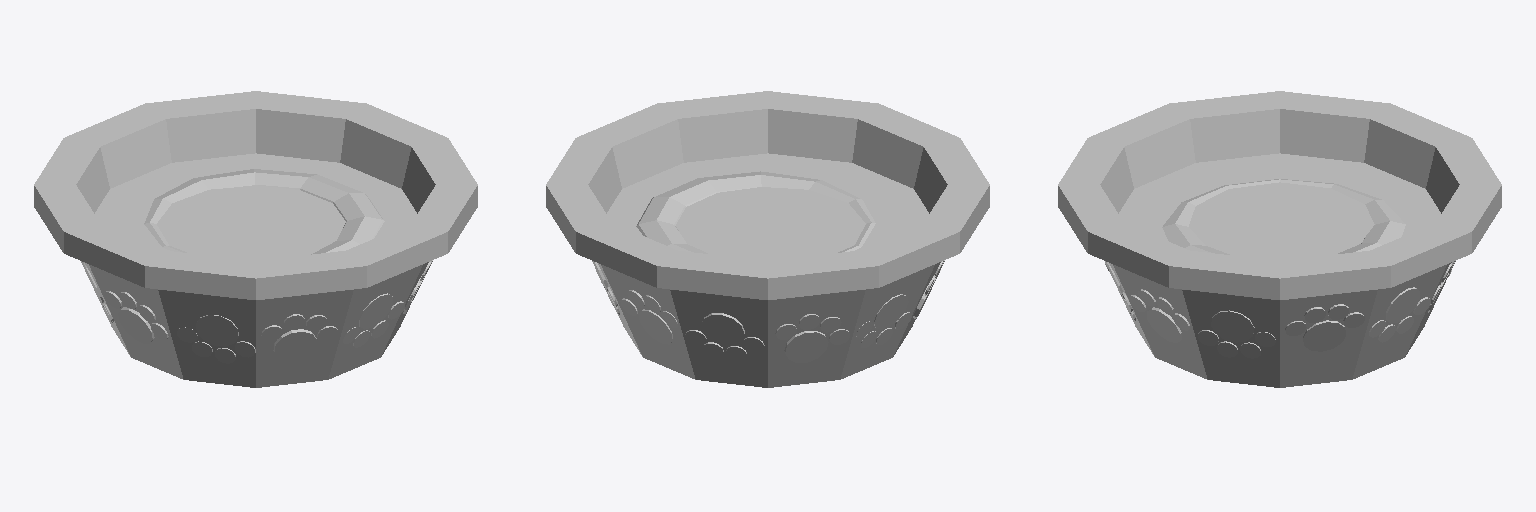
Rendered from dsfsef.obj.
3 renders of one model, left to right at view 1: azimuth 30°, elevation 25°; view 2: azimuth 150°, elevation 25°; view 3: azimuth 270°, elevation 25°, orthographic.
Size of the model in its own units: 1.47 by 0.52 by 1.47.